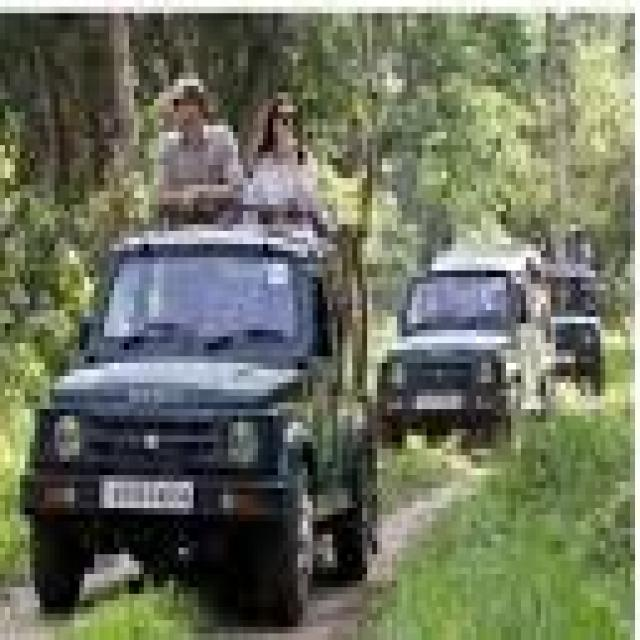car: (22, 165, 374, 640)
